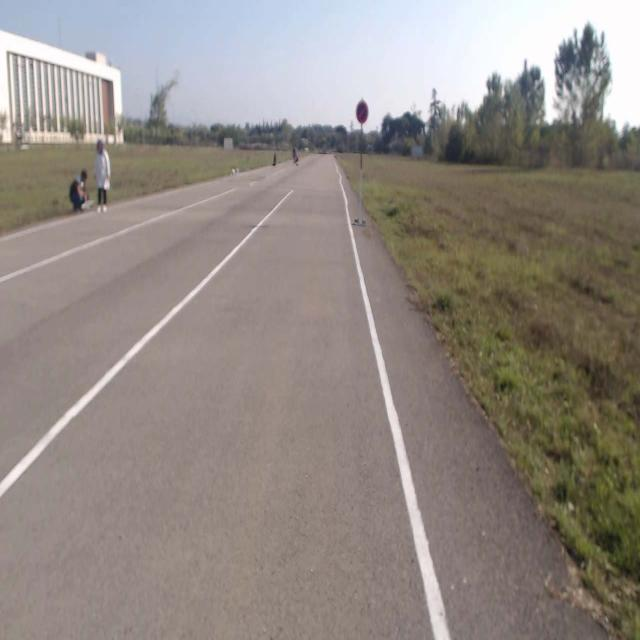parkyasak: (356, 100, 368, 124)
